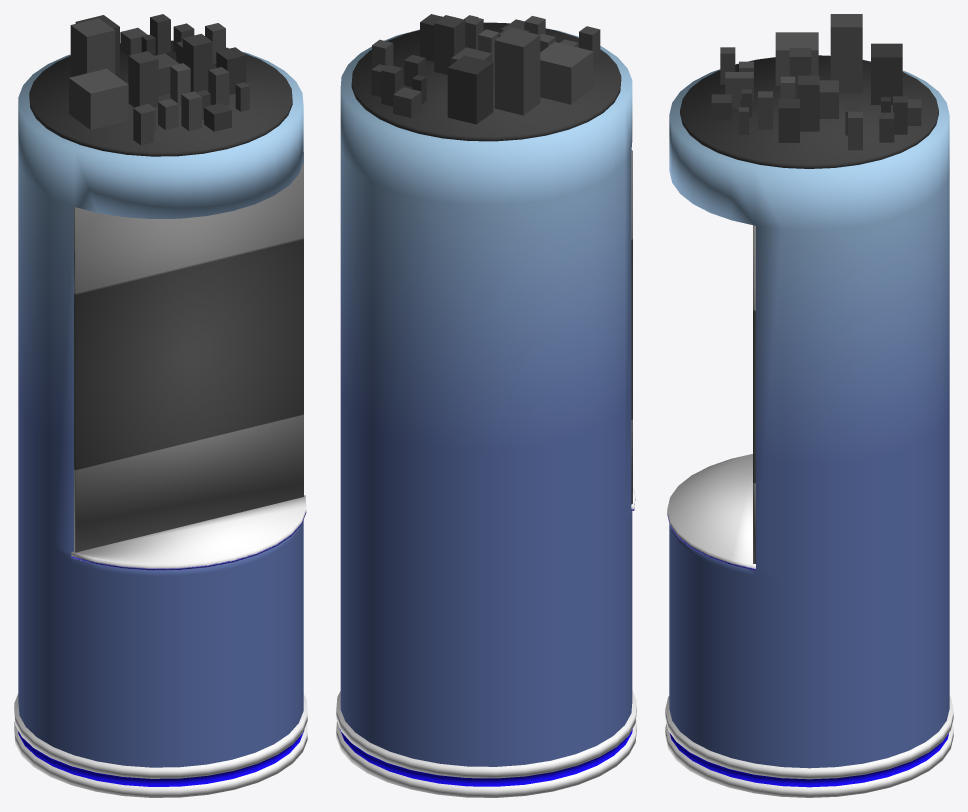
Rendered from Pilar.fbx.
3 views of the same model, side by side, from view 1: azimuth 30°, elevation 25°; view 2: azimuth 150°, elevation 25°; view 3: azimuth 270°, elevation 25° (orthographic). The views are drawn at different scales.
Visible parts, largest first — view 1: Pilar; view 2: Pilar; view 3: Pilar.
Part boxes in pixels (box(x1,y1,x2,y2)): Pilar: box(14, 14, 307, 797); Pilar: box(336, 14, 636, 797); Pilar: box(665, 14, 953, 797).
Bounding box in the file's own units: 47.05 × 125 × 47.05.
